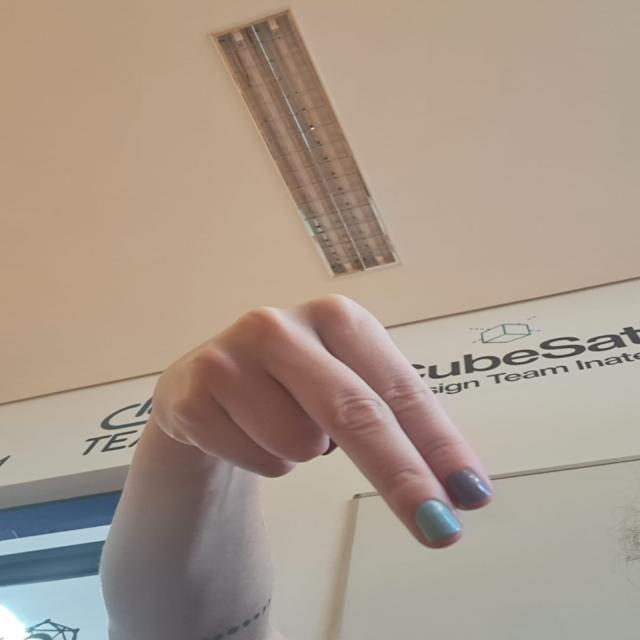N: (147, 278, 512, 552)
